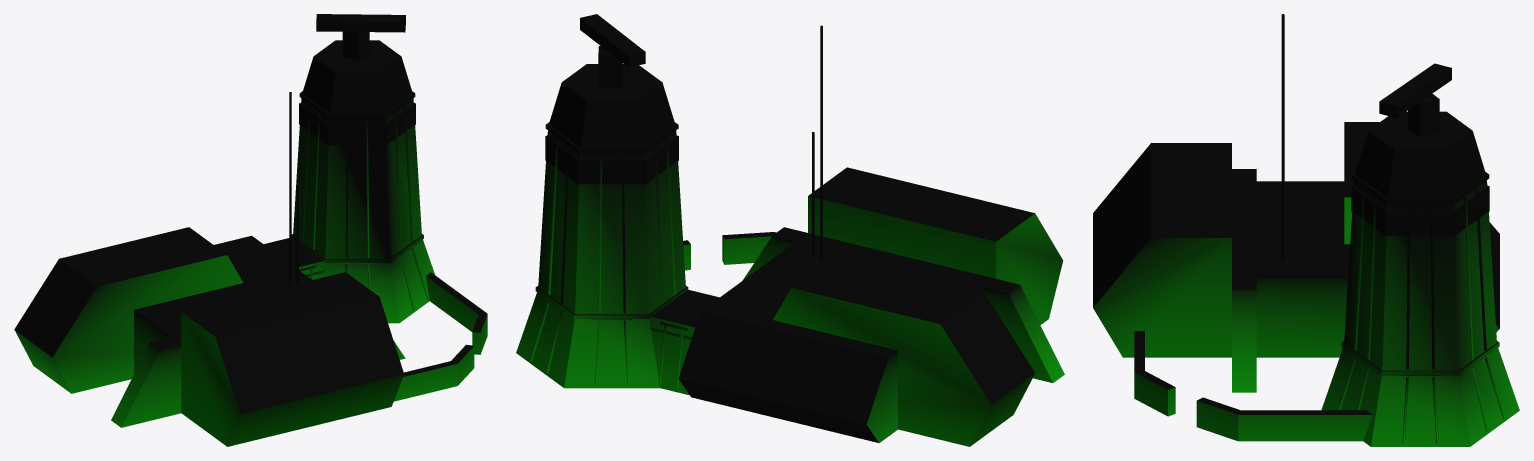
The model's file is l_turretcontrol.glb.
3 views of the same model, side by side, from view 1: azimuth 30°, elevation 25°; view 2: azimuth 150°, elevation 25°; view 3: azimuth 270°, elevation 25° (orthographic). The views are drawn at different scales.
Visible parts, largest first — view 1: lod0_l_turretcontrol; view 2: lod0_l_turretcontrol; view 3: lod0_l_turretcontrol.
Part boxes in pixels (left/top/right/bottom): lod0_l_turretcontrol: left=14, top=14, right=487, bottom=446; lod0_l_turretcontrol: left=516, top=14, right=1064, bottom=446; lod0_l_turretcontrol: left=1093, top=14, right=1519, bottom=446.
Bounding box in the file's own units: 24.48 × 16.05 × 19.
